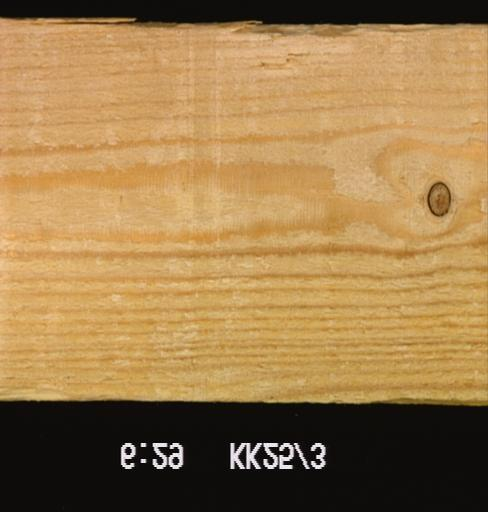dry_knot: (424, 180, 452, 218)
wave: (224, 19, 449, 48)
